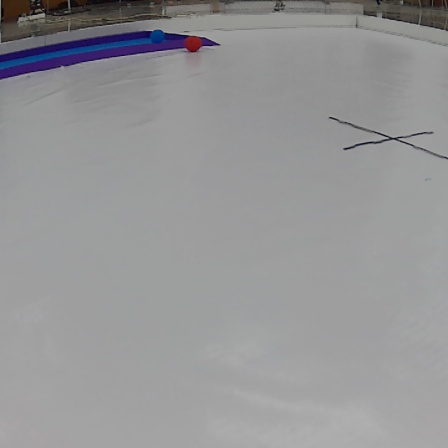blue: (148, 27, 166, 46)
blue_aim: (0, 29, 234, 80)
red: (182, 36, 205, 53)
